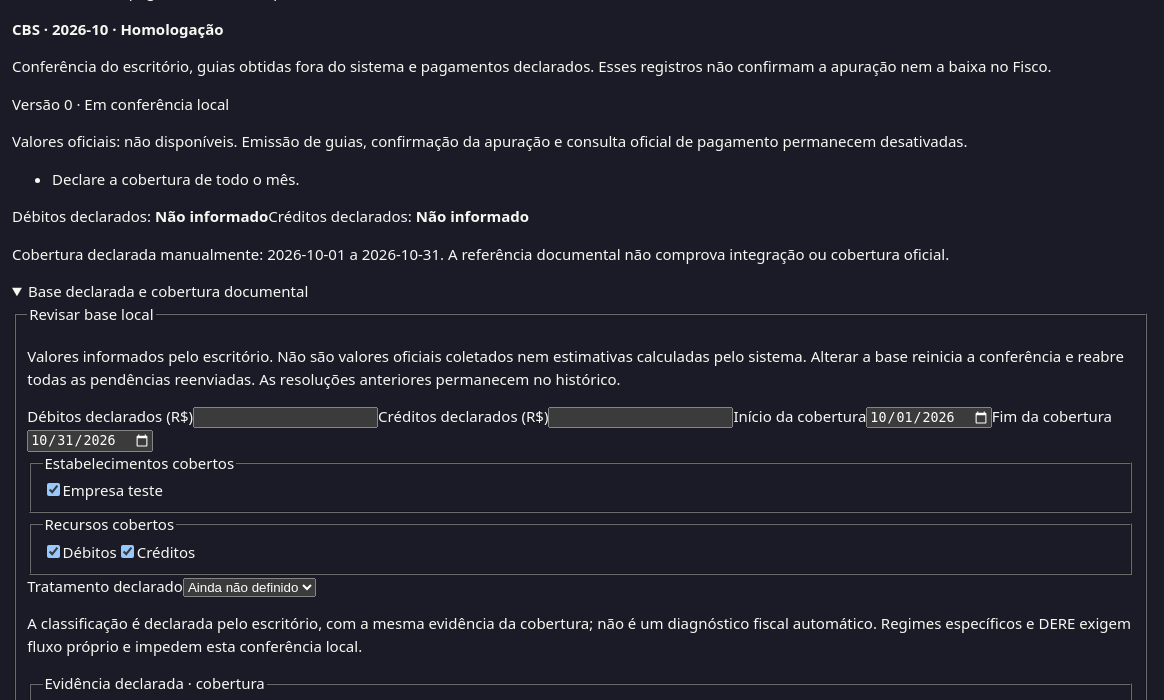
Test case: base preserva valores exatos e remove metadados de evidência reenviada
The width and height of the screenshot is (1164, 700).
expect the text "Versão 0 · Em conferência local" is shown: met, box [12,94,229,114]
Type "1.234,56" into the field labelled "Débitos declarados (R$)" at (286, 418), box [193,407,378,428]
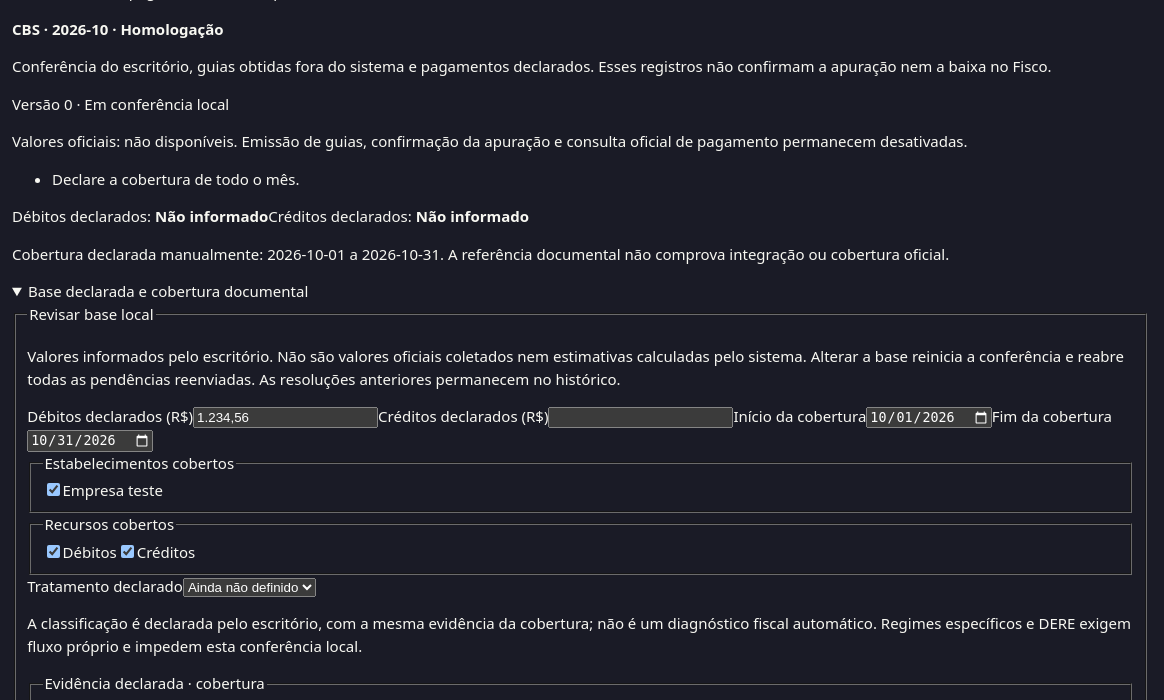
Type "0" into the field labelled "Créditos declarados (R$)" at (641, 418), box [548,407,733,428]
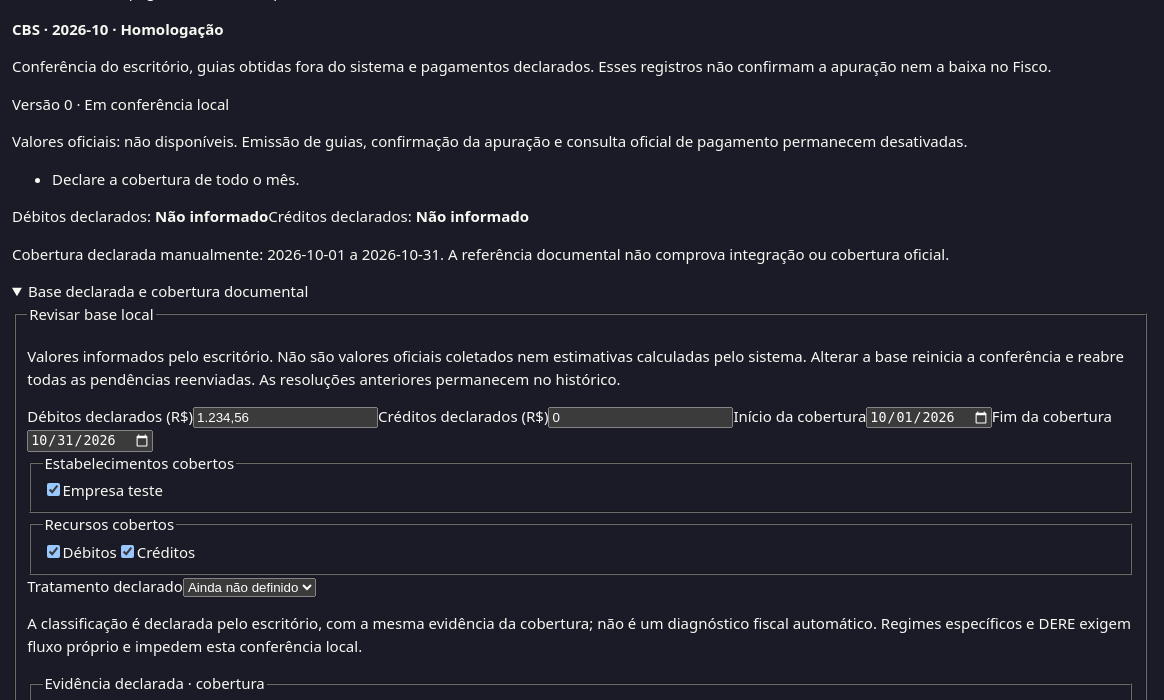
Select "Regular padrão" in the dropdown labelled "Tratamento declarado" at (249, 587), box [183,578,316,597]
(page scrolled)
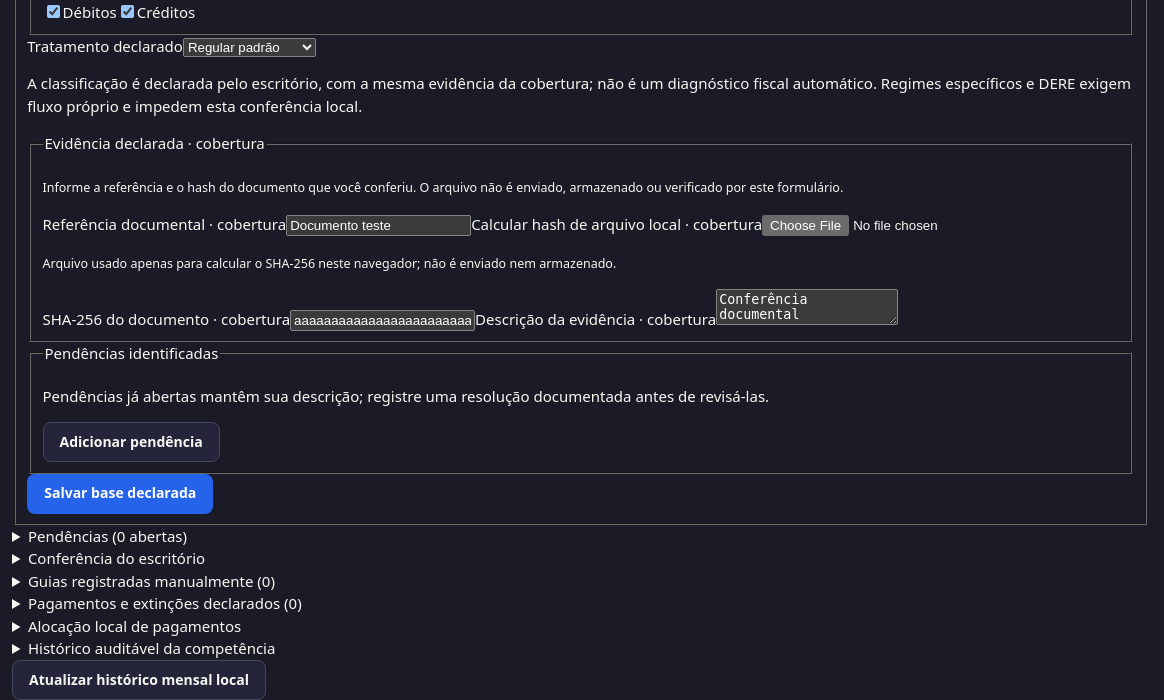
Click the button "Salvar base declarada" at (120, 494), box [27,474,213,514]
(page scrolled)
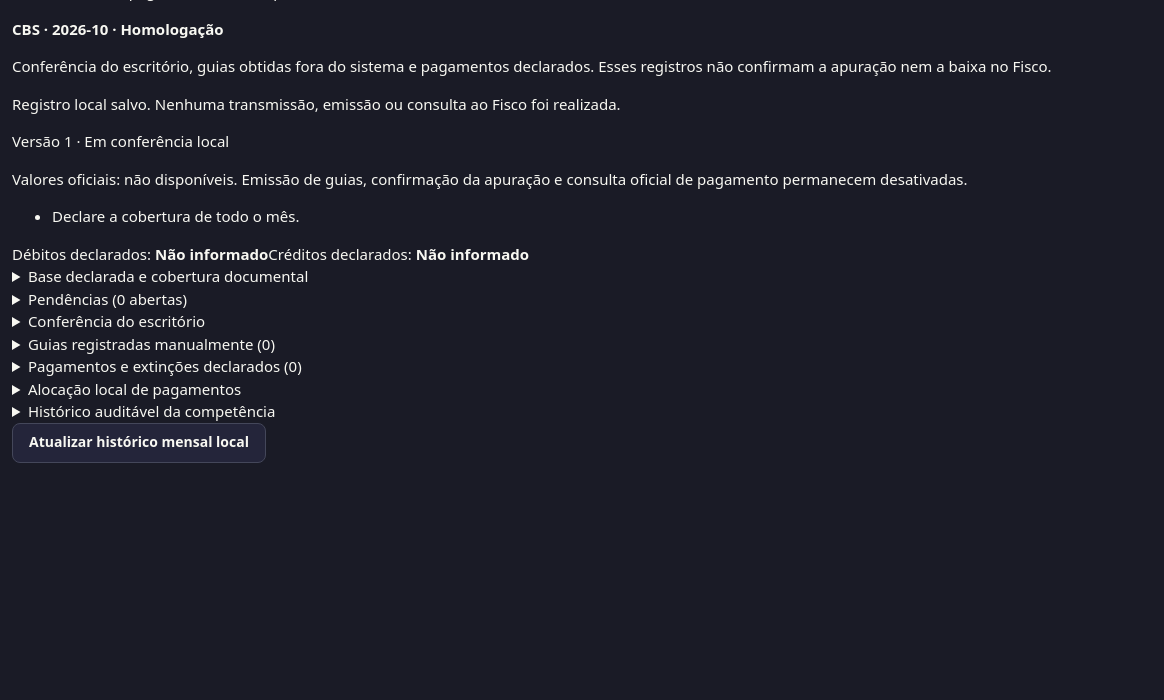
expect the text "Versão 1 · Em conferência local" is shown: met, box [12,131,229,151]
